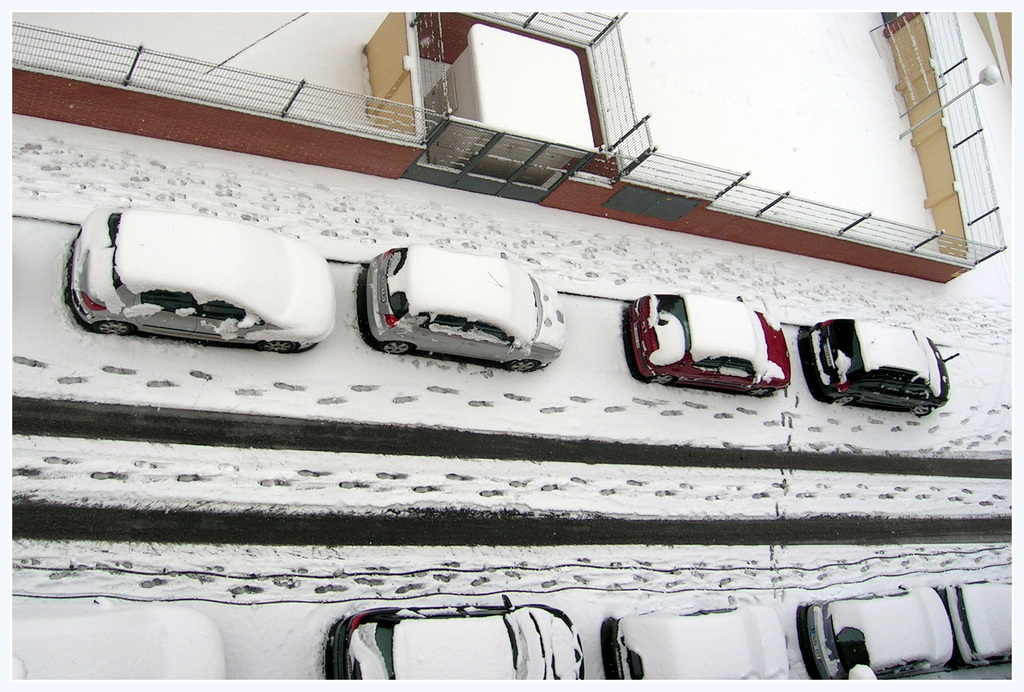Car: (69, 201, 337, 353), (363, 242, 561, 375), (323, 592, 582, 680), (11, 592, 231, 676), (631, 291, 793, 400), (603, 600, 788, 679), (793, 587, 945, 680), (798, 321, 951, 406), (940, 576, 1016, 664)
